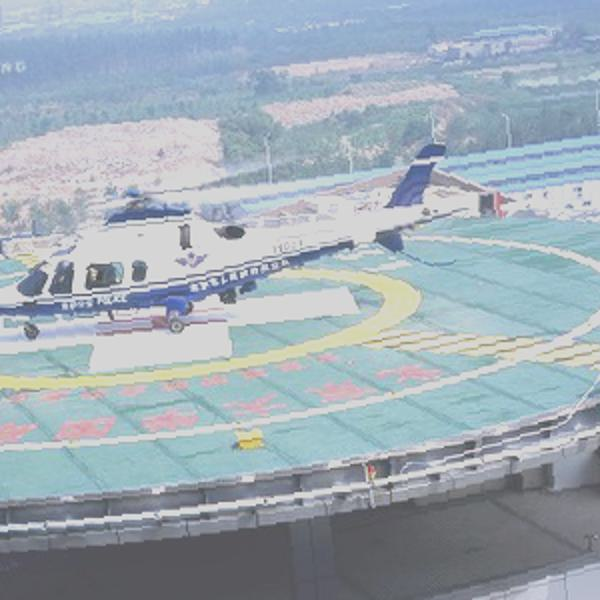Apron: (1, 221, 437, 387)
